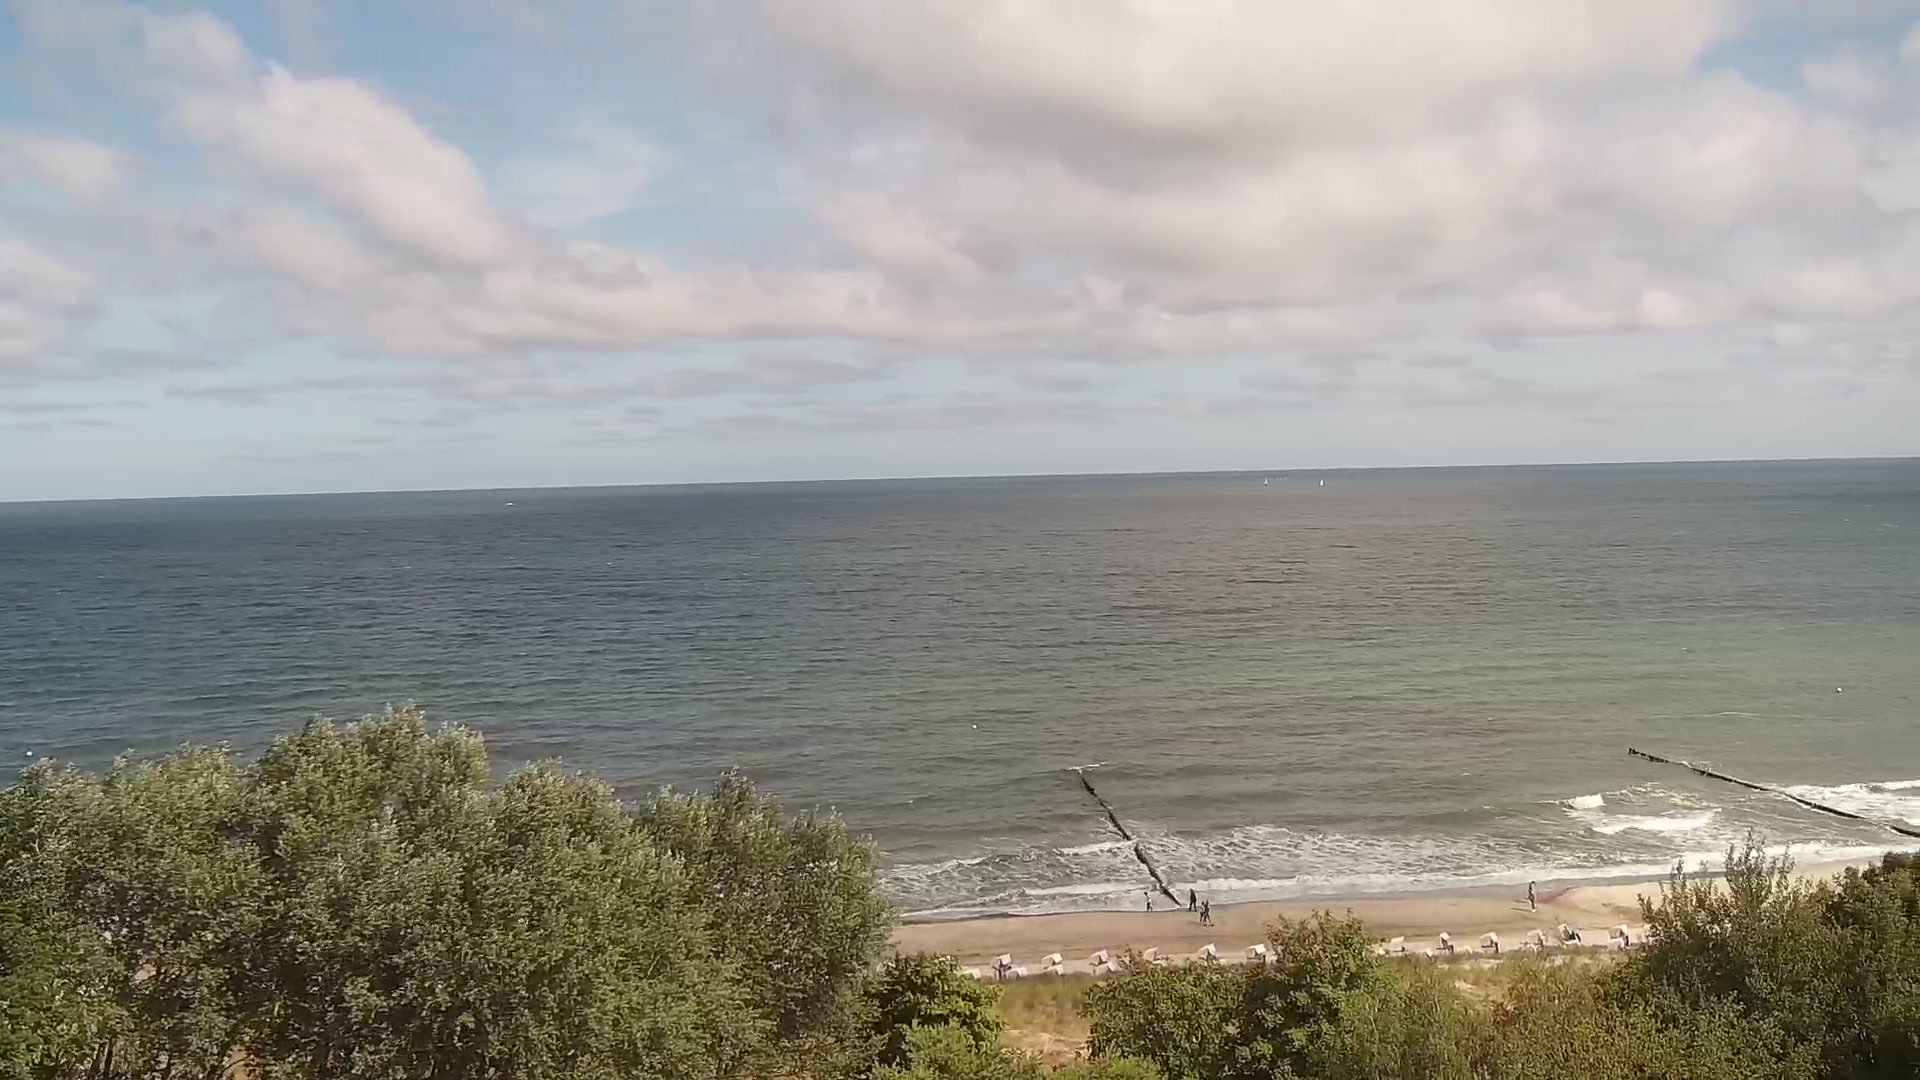human: (1202, 898, 1212, 925), (1527, 890, 1537, 912), (1199, 900, 1206, 924), (1143, 890, 1153, 911), (1189, 887, 1198, 911), (1528, 880, 1536, 897)
sea: (1319, 479, 1325, 488), (1263, 476, 1269, 487)
